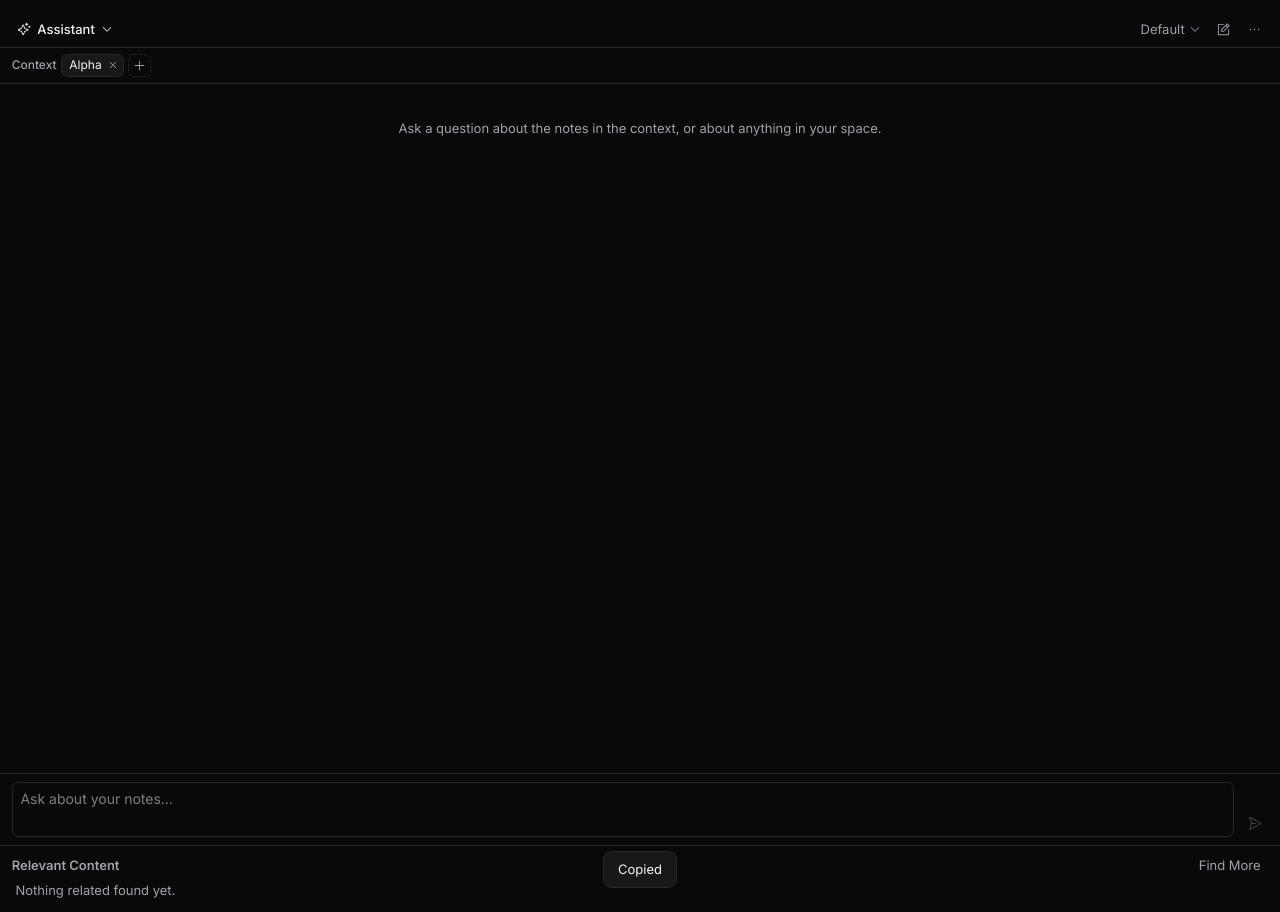
Test: AiChatPanel › test Append to page appends with the version, reloading once on a conflict
Later steps or results of the test are not shown.
Type "Q" into the text box named "Message" at (623, 809), box [12,782,1234,837]
Then press Enter
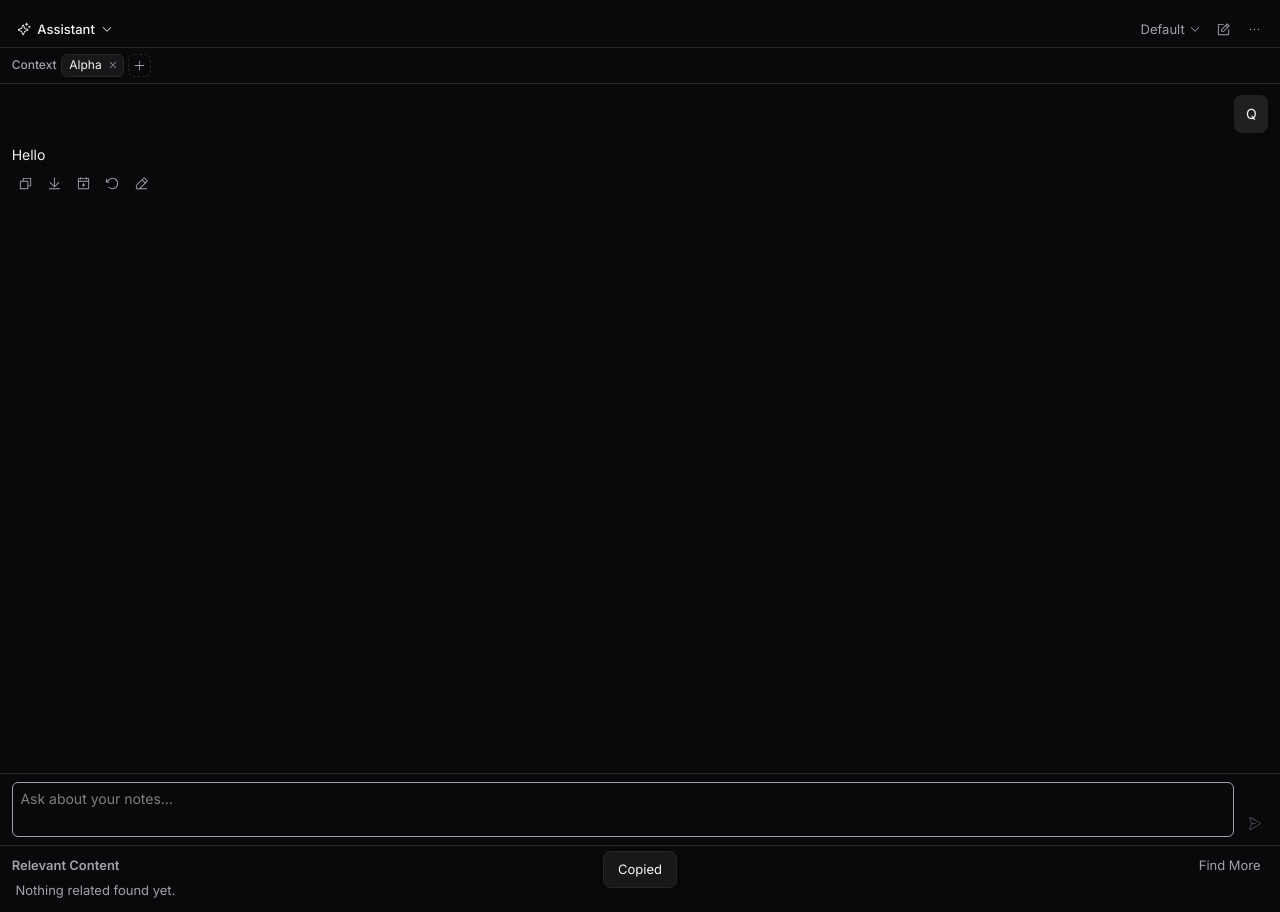
Expected: the text "Hello" is shown, [12,146,45,163]
